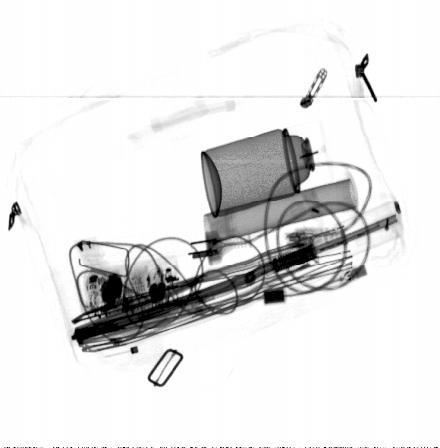Sprayer: (200, 117, 336, 220)
